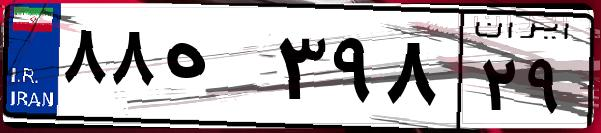2: (475, 38, 525, 113)
3: (270, 28, 330, 110)
8: (385, 28, 445, 110), (57, 26, 110, 100), (110, 28, 158, 98)
9: (330, 28, 385, 110), (525, 38, 570, 115)
ه: (158, 20, 270, 120)
